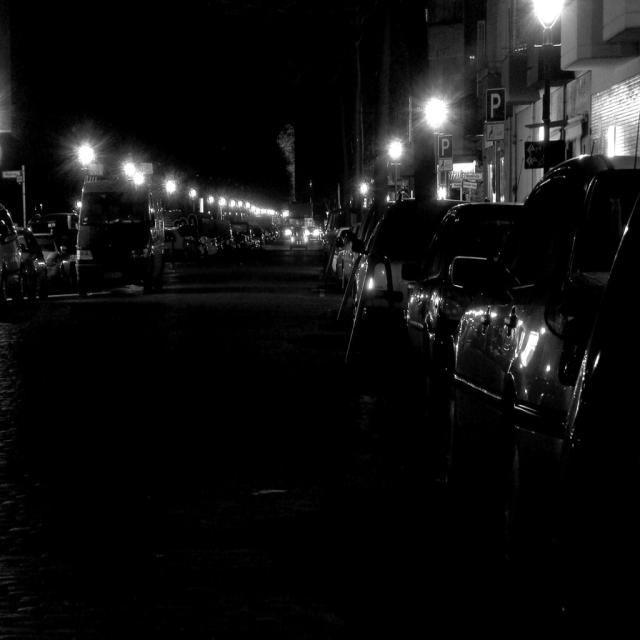car: (286, 224, 307, 252), (293, 219, 306, 246)
